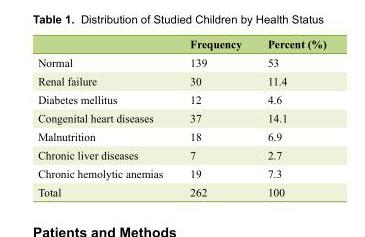table: (37, 37, 325, 197)
table column: (37, 37, 175, 197), (175, 37, 253, 197), (253, 37, 325, 197)
table column header: (37, 37, 325, 52)
table row: (37, 52, 325, 71), (37, 89, 325, 108), (37, 126, 325, 145), (37, 163, 325, 182), (37, 71, 325, 89), (37, 108, 325, 126), (37, 145, 325, 163), (37, 37, 325, 52), (37, 182, 325, 197)
